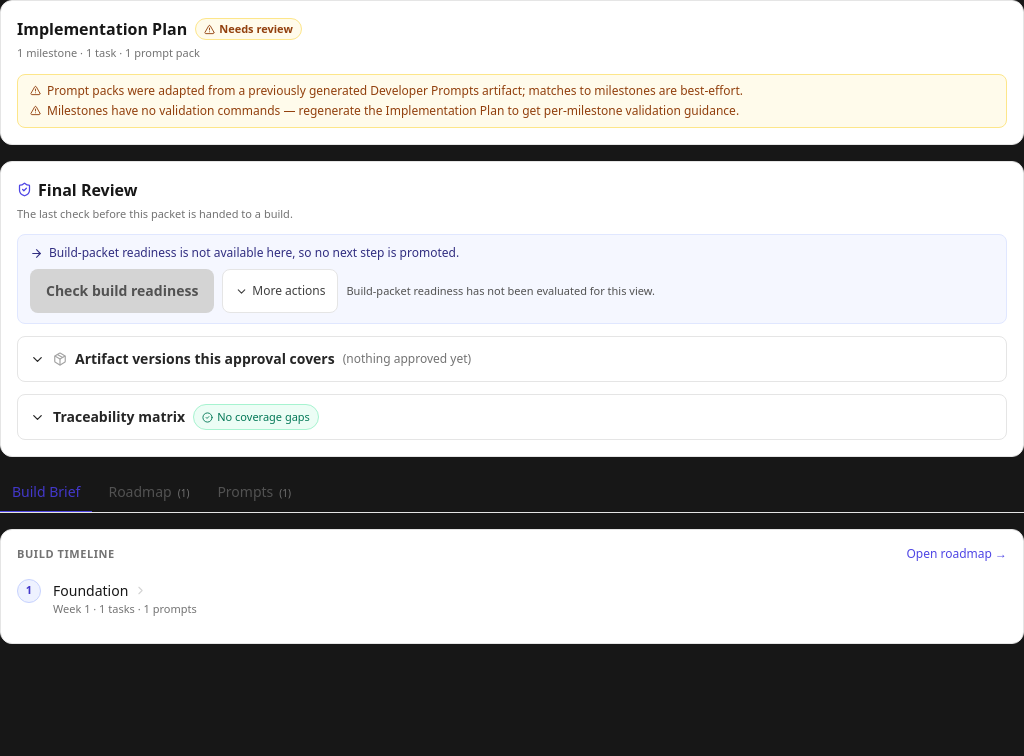
Test: ImplementationPlanRenderer (consolidated view) › adapts a legacy markdown plan + legacy prompt_pack into the consolidated view
Expected: the text "Needs review" is shown, [195,18,302,40]
Click the button "Prompts(1)". click: (254, 493)
box: [205,473,303,513]
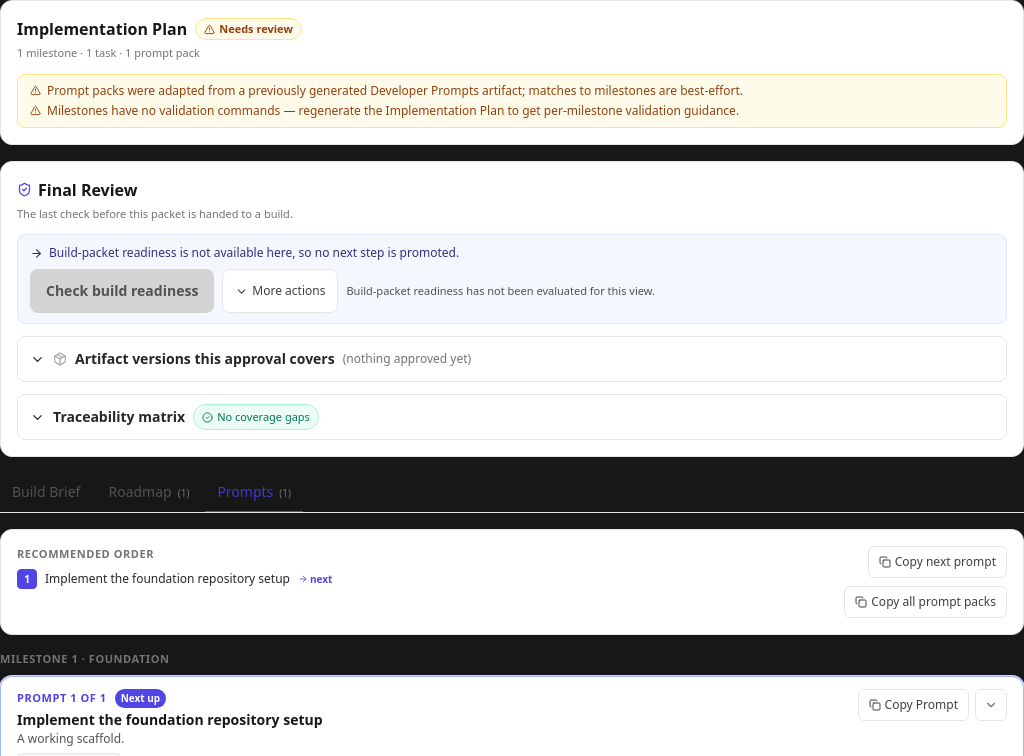
Now the text "Implement the foundation repository setup" is shown, box [45,570,290,586]
